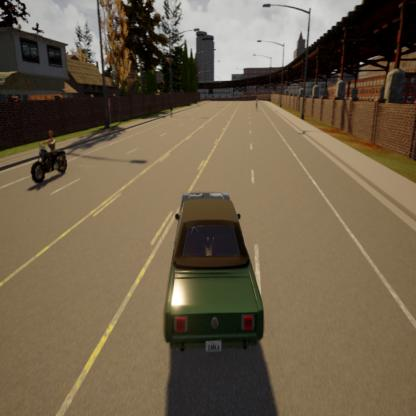Cars: (147, 180, 271, 362)
